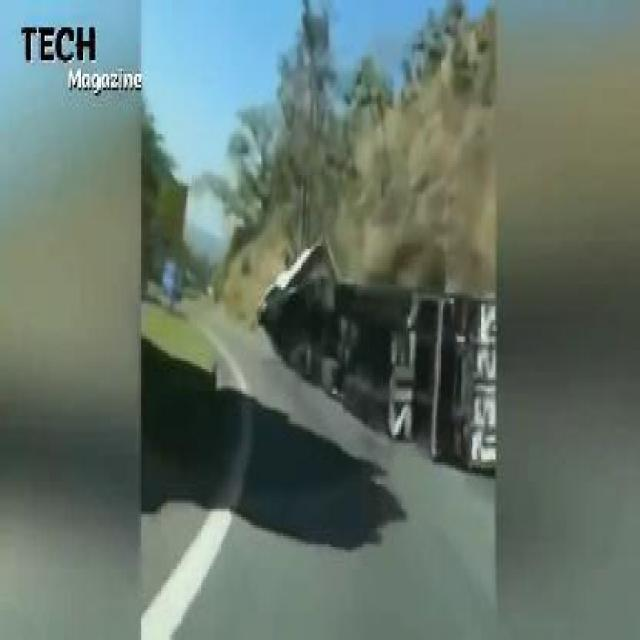accident: (258, 234, 496, 477)
